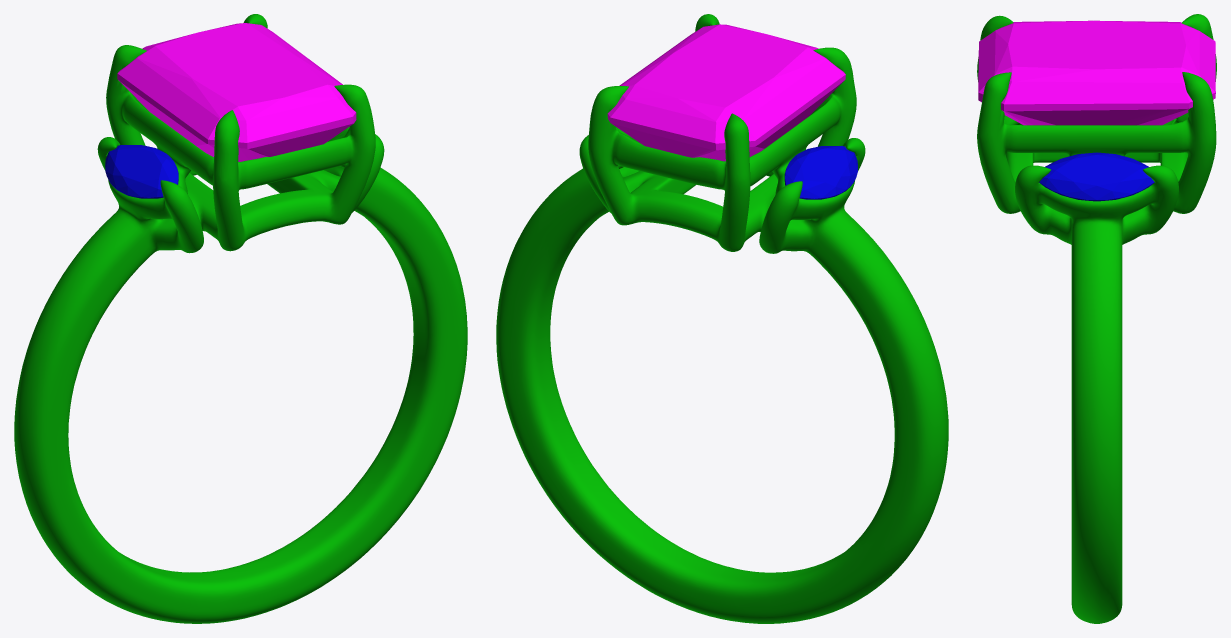
Rendered from BE1D384_RA_200ct_RENDER.glb.
3 views of the same model, side by side, from view 1: azimuth 30°, elevation 25°; view 2: azimuth 150°, elevation 25°; view 3: azimuth 270°, elevation 25° (orthographic).
Visible parts, largest first — view 1: Metal 01, CS_Diamond_Radiant, Diamond_Marquise_side; view 2: Metal 01, CS_Diamond_Radiant, Diamond_Marquise_side; view 3: Metal 01, CS_Diamond_Radiant, Diamond_Marquise_side.001.
Part boxes in pixels (x1,y1,x2,y2): Metal 01: (14, 14, 467, 623); CS_Diamond_Radiant: (117, 23, 356, 161); Diamond_Marquise_side: (105, 145, 178, 198); Metal 01: (496, 14, 948, 623); CS_Diamond_Radiant: (607, 24, 845, 161); Diamond_Marquise_side: (784, 146, 857, 199); Metal 01: (977, 14, 1216, 623); CS_Diamond_Radiant: (978, 20, 1215, 125); Diamond_Marquise_side.001: (1039, 152, 1154, 201).
Bounding box in the file's own units: 20.41 × 24.13 × 9.45.
